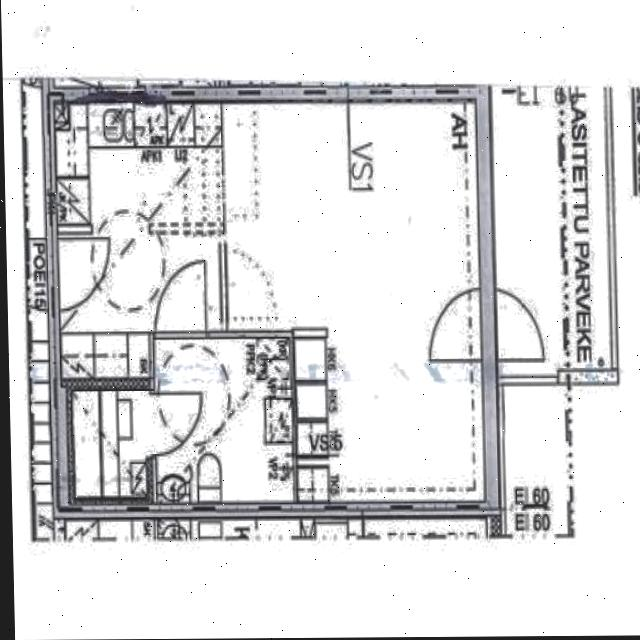room: (152, 334, 293, 507), (72, 392, 149, 496)
